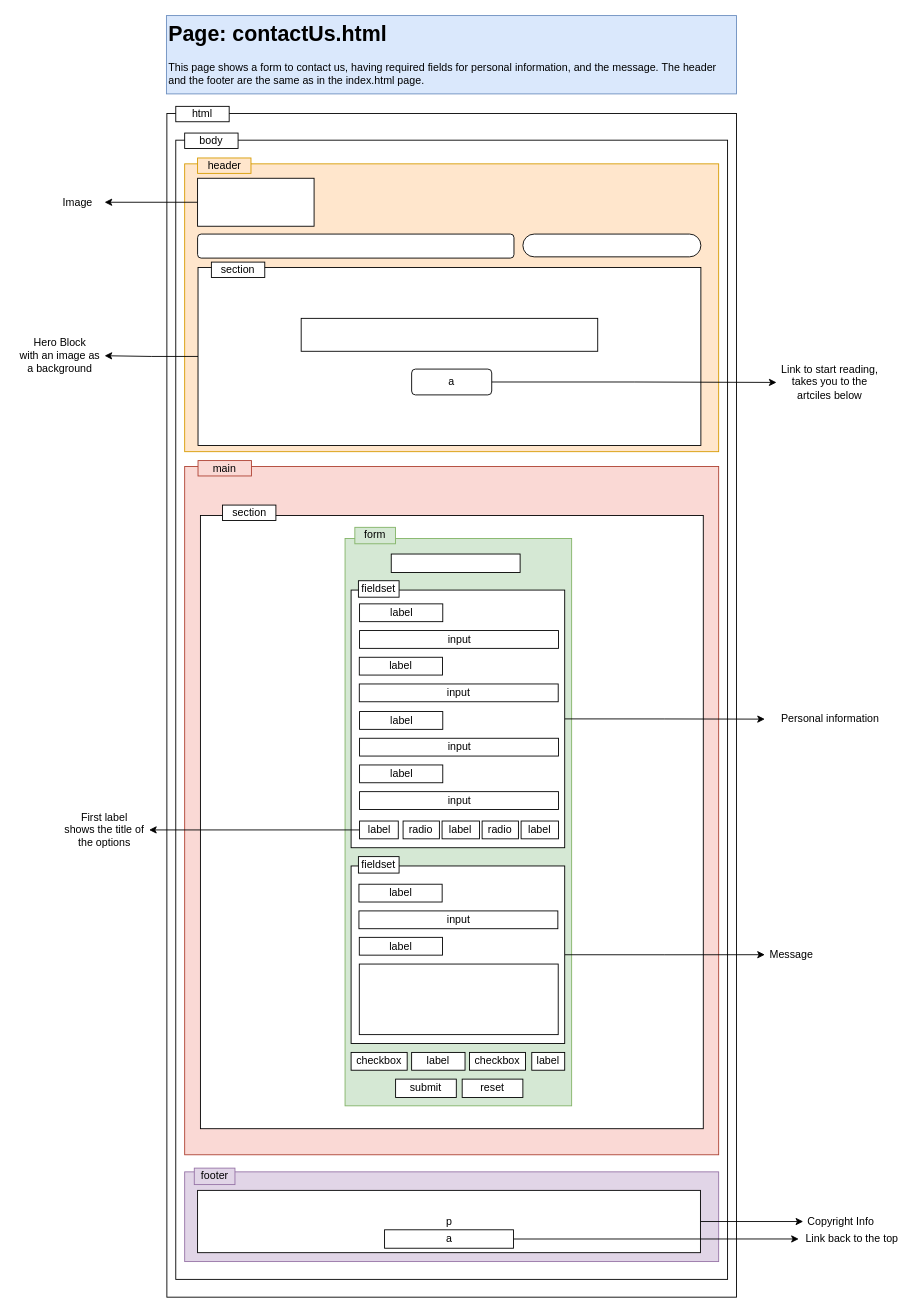
Image size: 920x1313. Some labels were removed from this diagram. The centre of each missing label's shape, as x and y in pixels:
"h1" belongs at point (449, 334).
"h2" belongs at point (455, 562).
"Logo" belongs at point (255, 201).
"Navigation" belongs at point (355, 245).
"Search bar" belongs at point (611, 245).
"textarea" belongs at point (458, 999).
